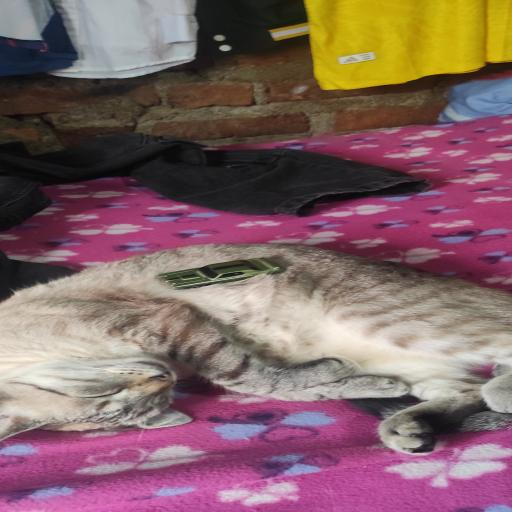Carrito: (159, 258, 283, 290)
